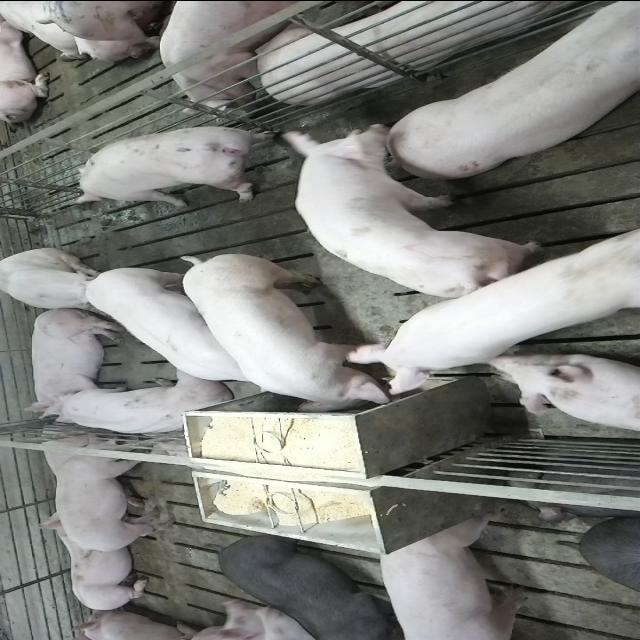Feeding: (347, 208, 640, 394), (174, 254, 403, 418)
Lateral_lying: (207, 0, 594, 103), (20, 306, 126, 417)
Sitting: (1, 247, 117, 311)
Standing: (288, 125, 548, 302), (386, 0, 640, 175), (80, 262, 280, 391), (377, 510, 537, 638), (217, 534, 410, 638), (70, 122, 280, 208), (51, 428, 182, 554), (162, 0, 302, 107)
Sternal_lying: (40, 374, 234, 438), (486, 357, 638, 437), (31, 516, 152, 610)
